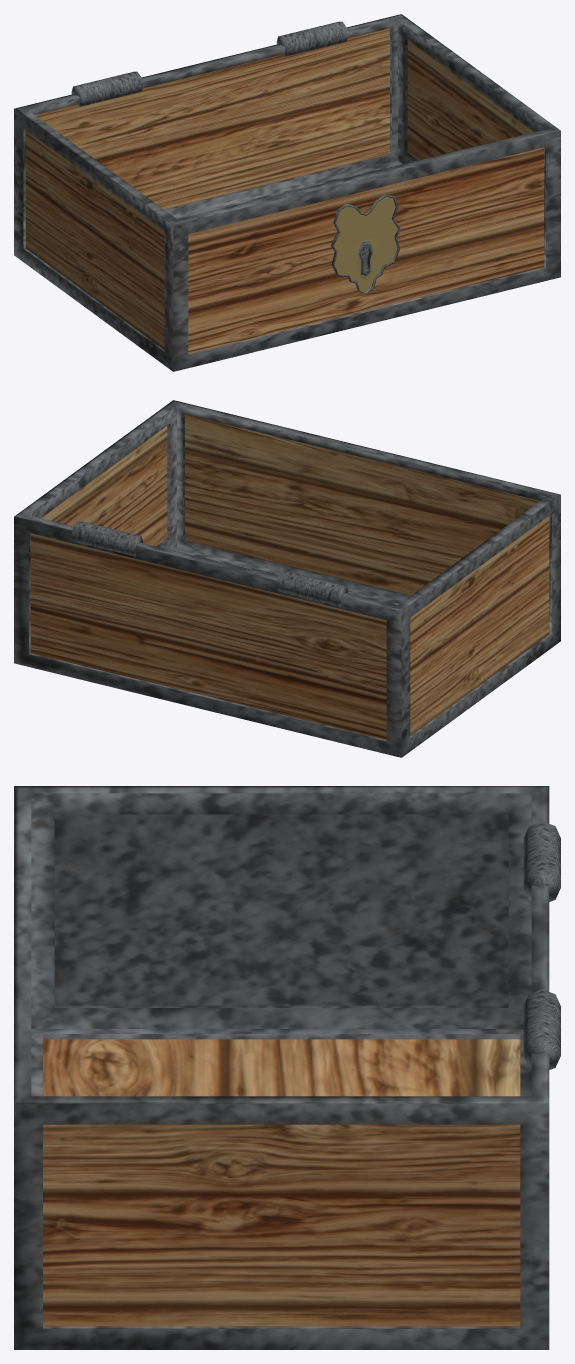
The model's file is Chest.fbx.
The picture shows the model from 3 angles, top to bottom: view 1: azimuth 30°, elevation 25°; view 2: azimuth 150°, elevation 25°; view 3: azimuth 270°, elevation 25°; orthographic projection. The views are drawn at different scales.
Parts seen in each view (by area): view 1: Chest; view 2: Chest; view 3: Chest.
Part boxes in pixels (bbox=[...]): Chest: bbox=[14, 14, 560, 371]; Chest: bbox=[14, 400, 560, 757]; Chest: bbox=[14, 786, 560, 1349].
Bounding box in the file's own units: 324 × 124 × 236.
Materials: 3 (2 with a texture image).
